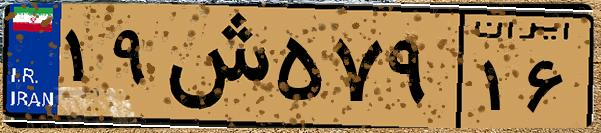1: (57, 26, 110, 100), (475, 38, 525, 113)
5: (270, 28, 330, 110)
6: (525, 38, 570, 115)
7: (330, 28, 385, 110)
9: (385, 28, 445, 110), (110, 28, 158, 98)
ش: (158, 12, 270, 120)
